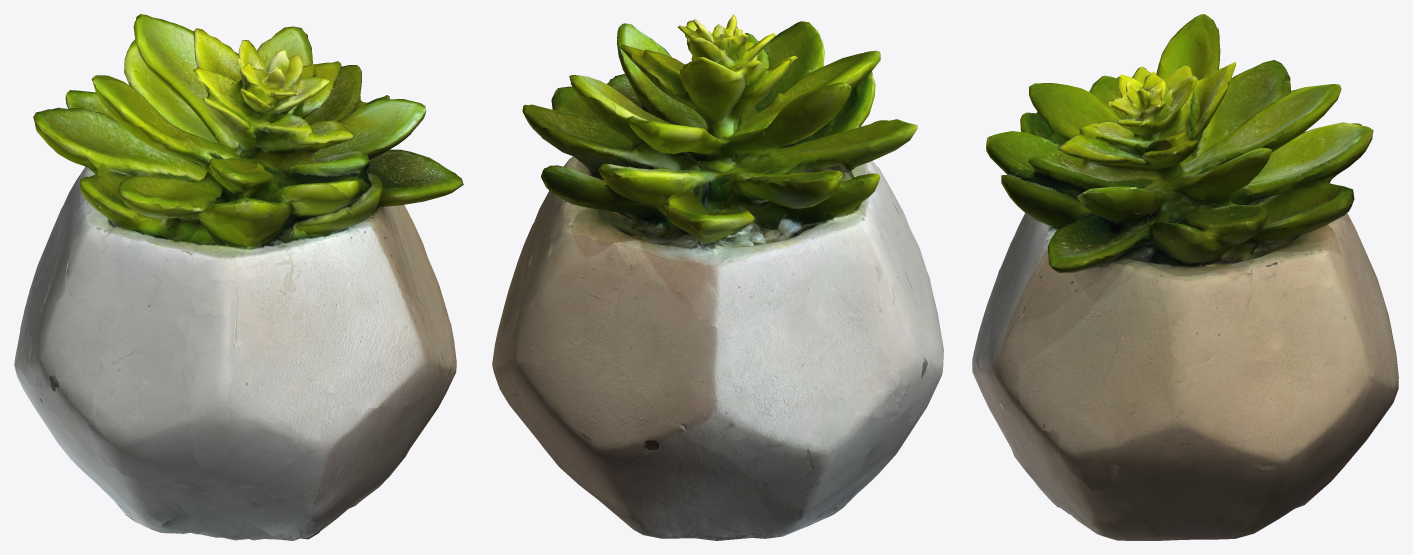
File: matera-bake.glb
3 views of the same model, side by side, from view 1: azimuth 30°, elevation 25°; view 2: azimuth 150°, elevation 25°; view 3: azimuth 270°, elevation 25° (orthographic). The views are drawn at different scales.
Parts seen in each view (by area): view 1: Mesh_0; view 2: Mesh_0; view 3: Mesh_0.
Boxes of the visible parts, x1,y1,x2,y2 form: Mesh_0: [14, 14, 463, 540]; Mesh_0: [492, 14, 943, 540]; Mesh_0: [972, 14, 1398, 540].
Size of the model in its own units: 0.6385 by 0.7067 by 0.6311.
Materials: 1 (1 with a texture image).
